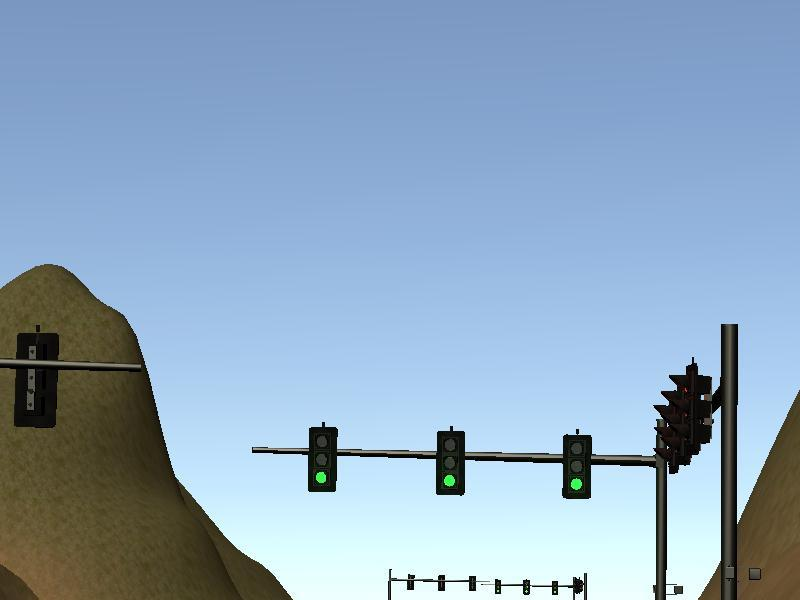Green: (308, 427, 337, 492), (435, 430, 464, 495), (562, 435, 591, 500)
